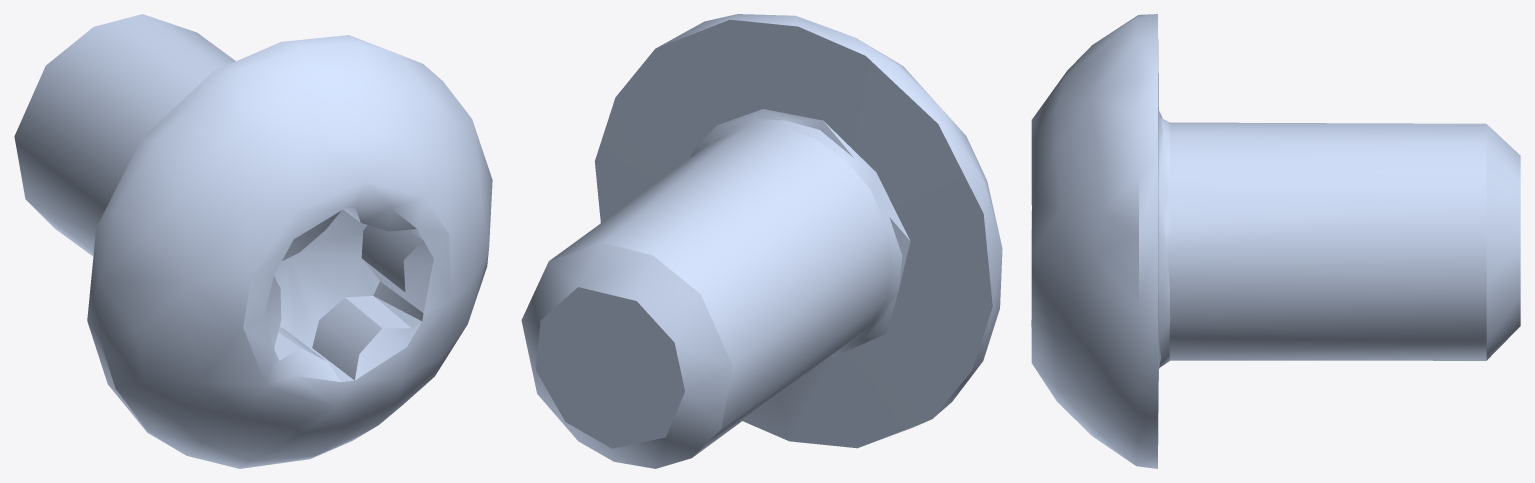
Rendered from _8-32_x_1_4_Star_Drive_Screw__276-4990_.glb.
The picture shows the model from 3 angles, left to right: view 1: azimuth 30°, elevation 25°; view 2: azimuth 150°, elevation 25°; view 3: azimuth 270°, elevation 25°; orthographic projection.
Visible parts, largest first — view 1: #8-32 x 1_4 Star Drive Screw (276-4990); view 2: #8-32 x 1_4 Star Drive Screw (276-4990); view 3: #8-32 x 1_4 Star Drive Screw (276-4990).
Part boxes in pixels (x1=…): #8-32 x 1_4 Star Drive Screw (276-4990): x1=14, y1=14, x2=492, y2=468; #8-32 x 1_4 Star Drive Screw (276-4990): x1=521, y1=14, x2=1002, y2=468; #8-32 x 1_4 Star Drive Screw (276-4990): x1=1031, y1=14, x2=1520, y2=468.
Size of the model in its own units: 0.3123 by 0.3131 by 0.3373.
